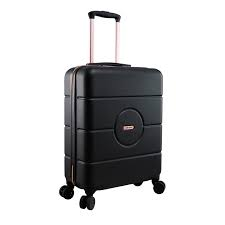suitcase: (57, 12, 167, 210)
